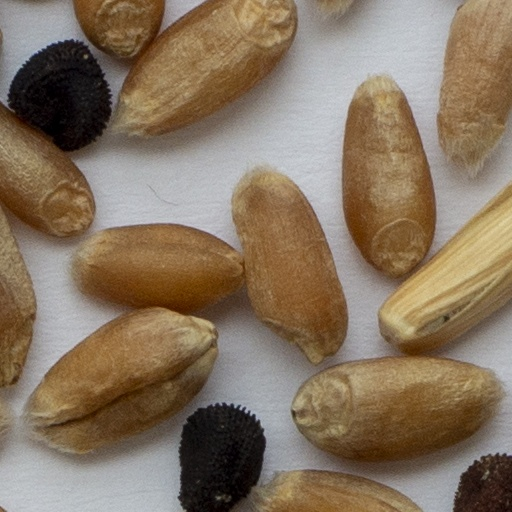Agrostemma-poly: (6, 38, 113, 153), (176, 403, 269, 511), (451, 452, 511, 511)
Peel-poly: (375, 179, 511, 356)
